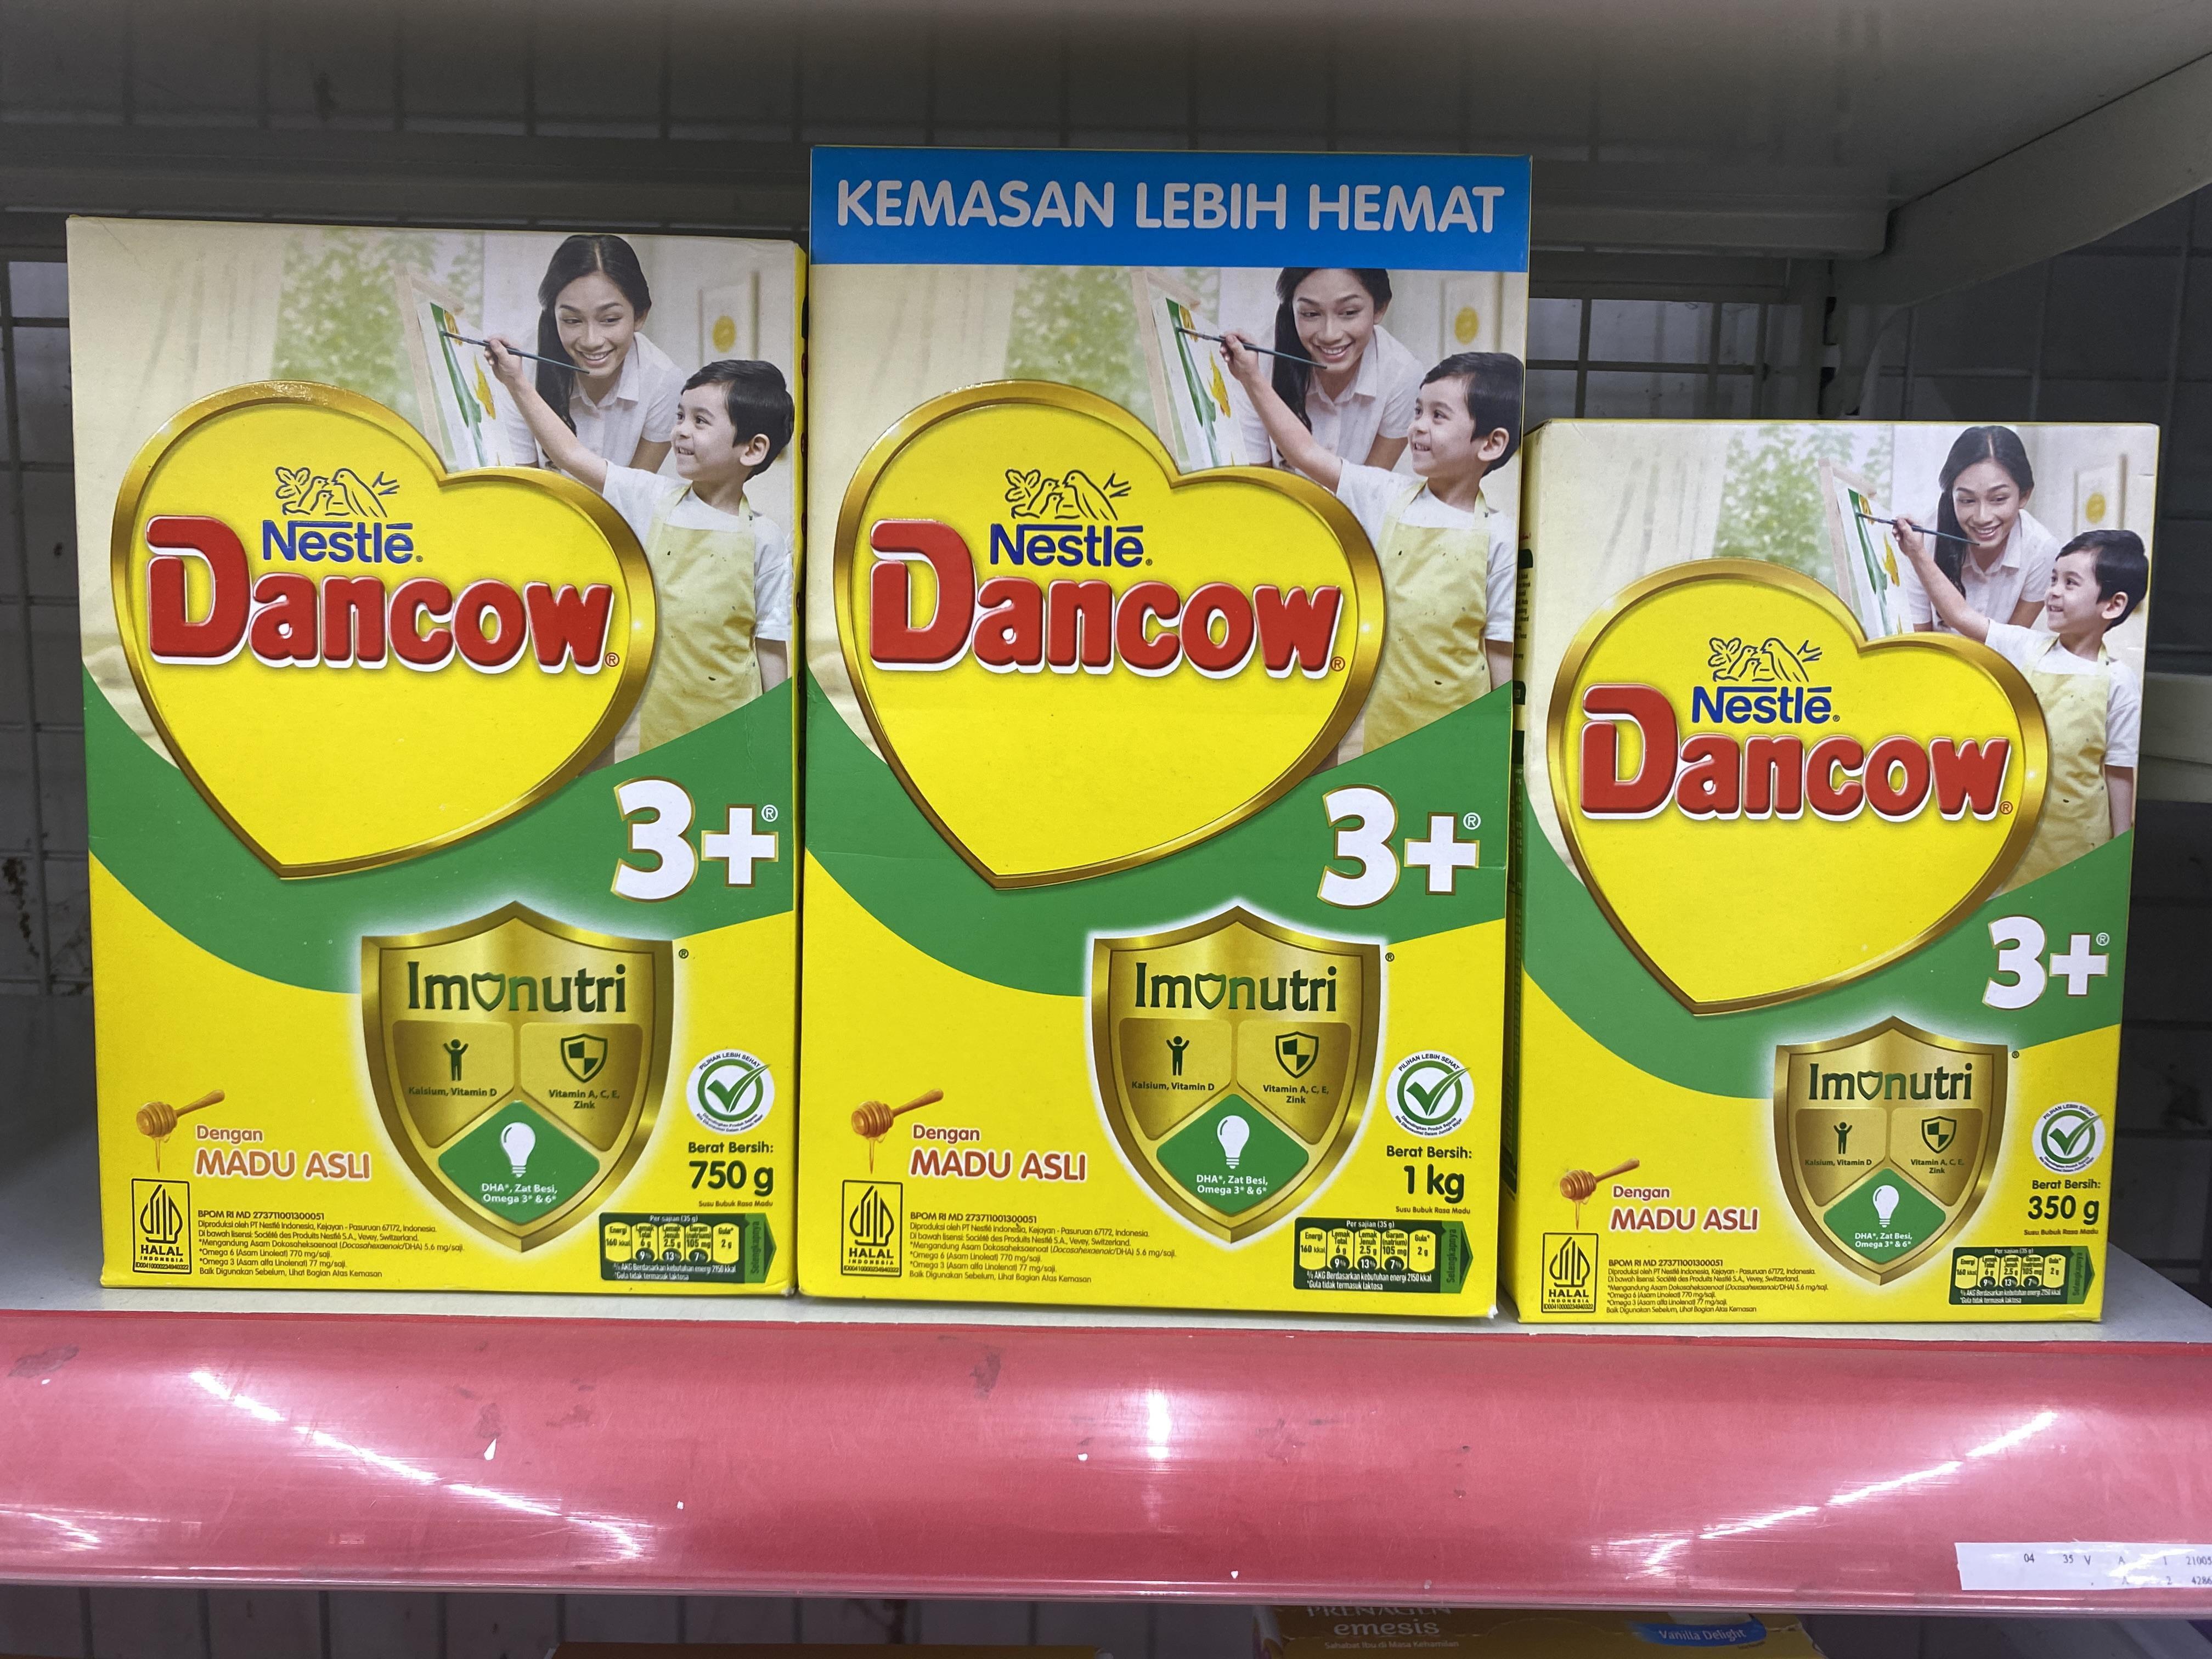DANCOW 3+ Madu Advn ExcNutr 12x800g ID_REDESIGN3: (77, 220, 799, 1300)
DANCOW 3+ Madu Advn ExcNutr 24x400g ID_REDESIGN3: (68, 214, 803, 1298), (805, 260, 1521, 1310), (1521, 420, 2156, 1328)
